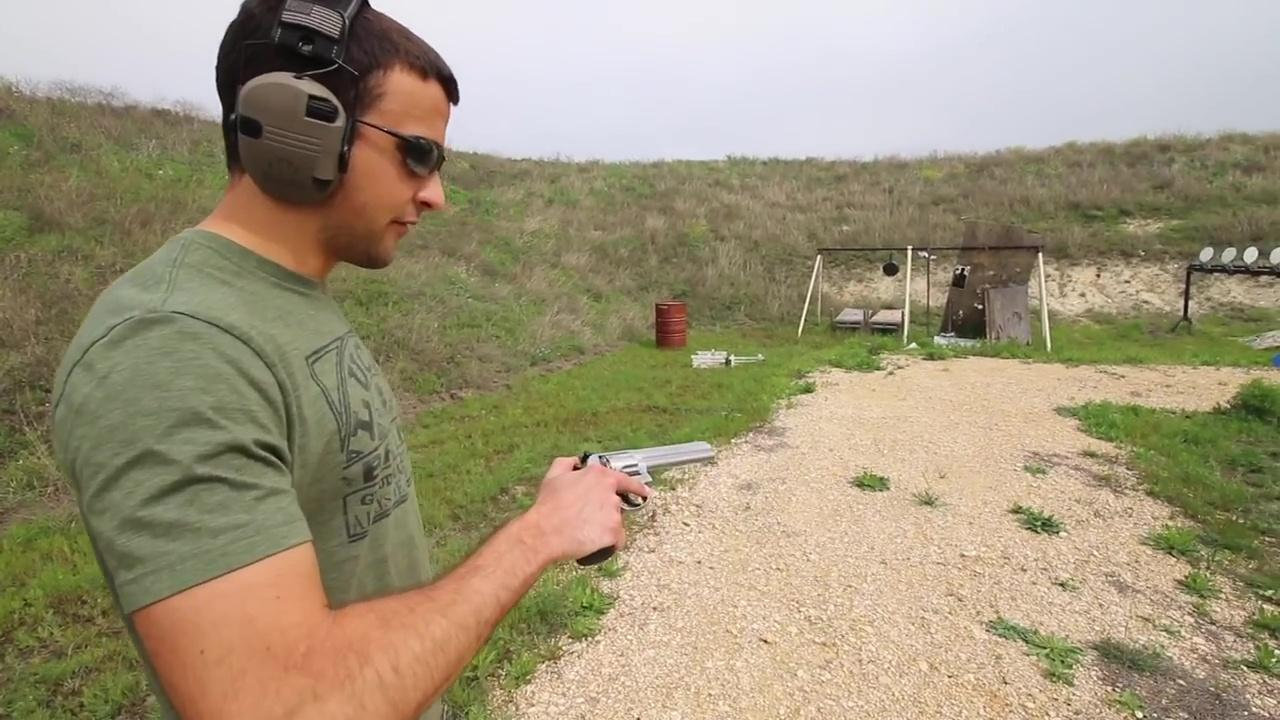weapon: (539, 433, 722, 573)
